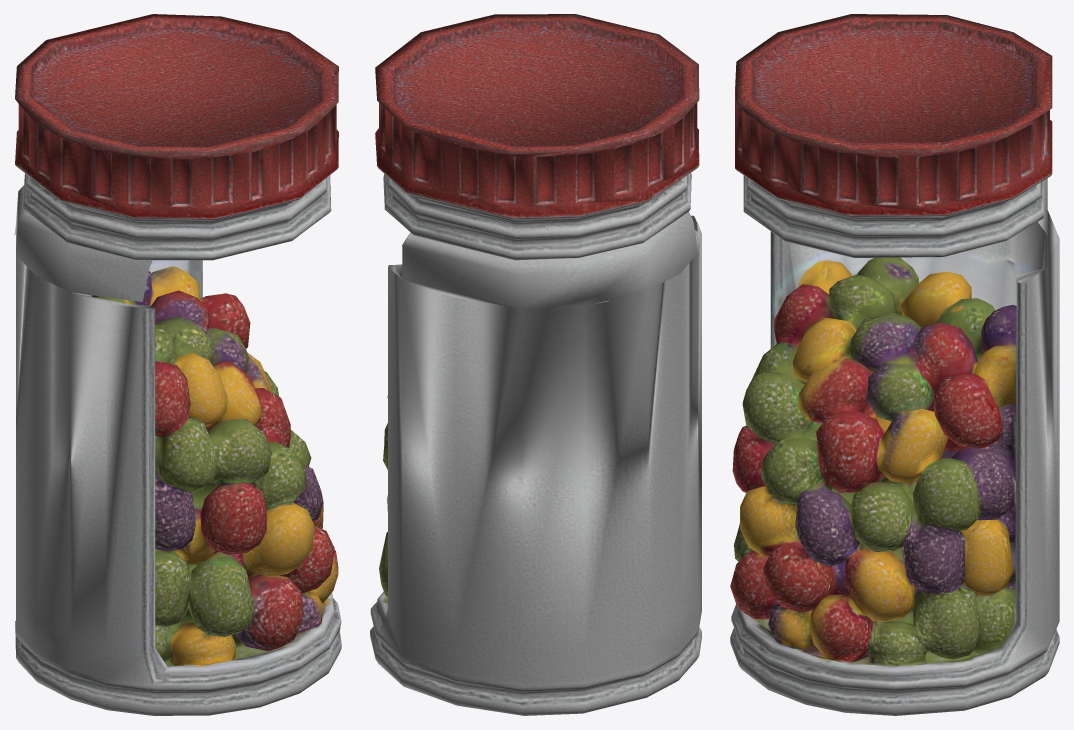
Rendered from SweetJar.fbx.
3 renders of one model, left to right at view 1: azimuth 30°, elevation 25°; view 2: azimuth 150°, elevation 25°; view 3: azimuth 270°, elevation 25°, orthographic.
Visible parts, largest first — view 1: tripo_node_bcf7ee62-fb7c-41b2-b1ba-c87484a9ab57; view 2: tripo_node_bcf7ee62-fb7c-41b2-b1ba-c87484a9ab57; view 3: tripo_node_bcf7ee62-fb7c-41b2-b1ba-c87484a9ab57.
Part boxes in pixels (left/top/right/bottom): tripo_node_bcf7ee62-fb7c-41b2-b1ba-c87484a9ab57: left=14, top=14, right=341, bottom=715; tripo_node_bcf7ee62-fb7c-41b2-b1ba-c87484a9ab57: left=370, top=14, right=701, bottom=715; tripo_node_bcf7ee62-fb7c-41b2-b1ba-c87484a9ab57: left=730, top=14, right=1059, bottom=715.
Size of the model in its own units: 52.64 by 100 by 52.64.
1 material, 1 textured.
